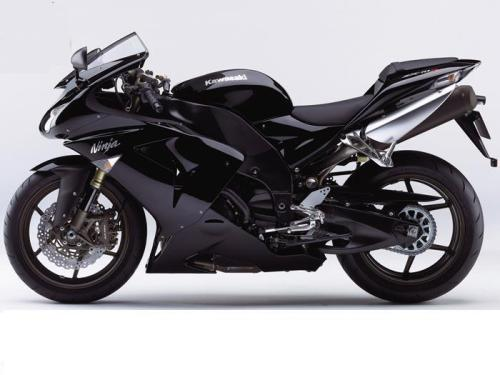motor: (19, 33, 486, 308)
